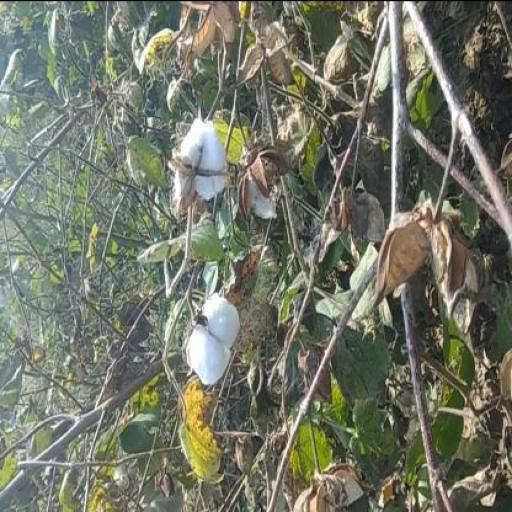cotton_ready: (169, 271, 252, 416), (165, 110, 229, 216)
